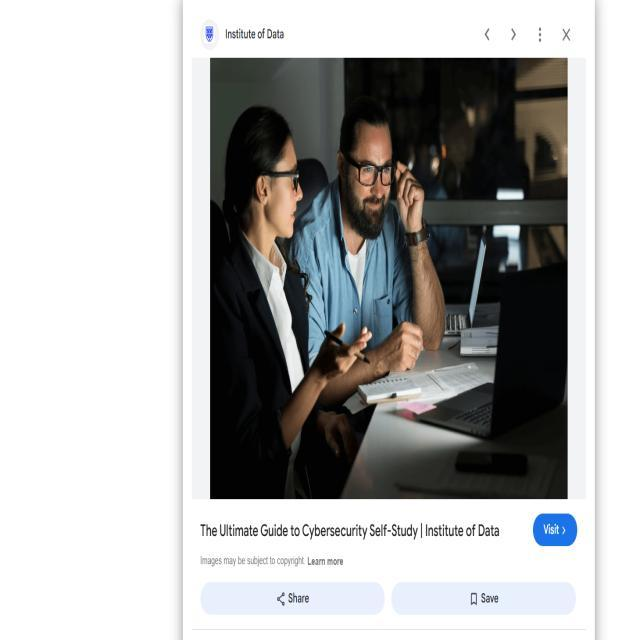face_no_mask: (336, 117, 394, 230), (257, 135, 306, 250)
